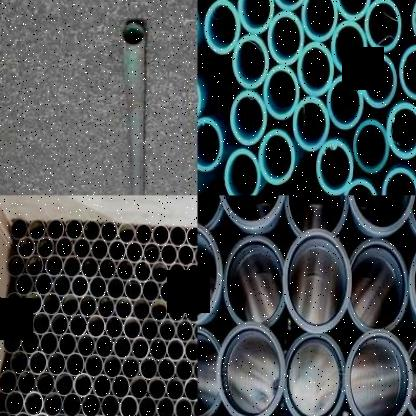pipe: (283, 228, 352, 334), (216, 321, 286, 416), (344, 329, 413, 416), (223, 235, 286, 328), (347, 238, 409, 332), (284, 334, 346, 416), (346, 195, 416, 235), (284, 196, 350, 236), (198, 219, 222, 326), (217, 195, 288, 228), (197, 326, 221, 416), (315, 139, 353, 195), (258, 129, 296, 185), (360, 54, 398, 109), (230, 91, 268, 145), (353, 119, 390, 174), (293, 97, 330, 151), (327, 76, 364, 130), (263, 66, 300, 120), (297, 42, 334, 96), (232, 35, 269, 89), (267, 11, 304, 65), (330, 22, 368, 74), (364, 0, 402, 51), (204, 1, 239, 55), (386, 102, 416, 160), (224, 148, 259, 196), (300, 0, 338, 41), (198, 117, 222, 171), (238, 0, 274, 34), (381, 166, 416, 195), (399, 44, 416, 101), (197, 196, 224, 231), (406, 333, 416, 416), (408, 230, 416, 333), (334, 0, 371, 20), (342, 178, 379, 196), (122, 22, 145, 46), (4, 389, 24, 416), (50, 312, 70, 337), (23, 391, 43, 416), (74, 373, 94, 398), (54, 372, 74, 397), (17, 370, 37, 395), (10, 350, 30, 375), (66, 352, 85, 378), (29, 350, 48, 376), (78, 294, 98, 318), (23, 292, 43, 316), (62, 255, 82, 279), (54, 236, 74, 260), (43, 392, 63, 416), (36, 372, 56, 396), (84, 354, 104, 378), (46, 352, 66, 376), (76, 334, 96, 358), (58, 332, 78, 356), (140, 317, 159, 342), (111, 375, 130, 400), (175, 358, 194, 383), (139, 356, 158, 381), (148, 376, 166, 402), (44, 255, 64, 278), (81, 393, 101, 416), (62, 393, 82, 416), (123, 316, 142, 340), (105, 316, 124, 340), (87, 314, 106, 338), (69, 314, 88, 338), (32, 312, 51, 336), (13, 311, 32, 335), (132, 298, 151, 322), (96, 296, 115, 320), (61, 294, 80, 318), (42, 292, 61, 316), (53, 274, 72, 298), (17, 236, 36, 260), (93, 374, 112, 398), (157, 358, 176, 382), (103, 355, 122, 379), (131, 337, 150, 361), (95, 335, 114, 359), (40, 332, 59, 356), (21, 331, 40, 355), (3, 330, 22, 354), (166, 377, 184, 402), (114, 335, 132, 360), (70, 276, 90, 298), (100, 394, 120, 416), (4, 292, 23, 315), (34, 273, 53, 296), (65, 219, 84, 242), (46, 219, 65, 242), (176, 320, 194, 344), (158, 318, 176, 342), (168, 300, 186, 324), (150, 299, 168, 323), (115, 297, 133, 321), (142, 280, 160, 304), (107, 277, 125, 301), (134, 260, 152, 284), (91, 238, 109, 262), (36, 236, 54, 260), (130, 376, 148, 400), (122, 356, 140, 380), (167, 338, 185, 362), (149, 338, 167, 362), (0, 370, 17, 395), (15, 274, 34, 296), (7, 256, 26, 278), (25, 256, 44, 278), (159, 280, 177, 303), (168, 262, 186, 285), (151, 261, 169, 284), (116, 259, 134, 282), (81, 257, 99, 280), (177, 244, 195, 267), (160, 243, 178, 266), (126, 240, 144, 263), (73, 237, 91, 260), (135, 223, 153, 246), (83, 219, 101, 242), (10, 218, 28, 241), (125, 278, 142, 302), (270, 0, 307, 11), (88, 276, 106, 298), (108, 240, 126, 262), (100, 221, 118, 243), (99, 258, 116, 281), (144, 242, 161, 265), (152, 224, 169, 247), (157, 396, 176, 416), (120, 395, 138, 416), (177, 282, 194, 304), (118, 222, 135, 244), (29, 219, 46, 241), (170, 225, 186, 248), (174, 397, 193, 416), (138, 396, 156, 416), (408, 195, 416, 239), (183, 377, 197, 402), (184, 338, 197, 362), (185, 300, 197, 324), (185, 262, 197, 286), (186, 226, 197, 248), (192, 358, 198, 382), (192, 397, 198, 416), (194, 320, 198, 344), (194, 282, 198, 304), (11, 412, 31, 416), (31, 412, 50, 416), (0, 410, 12, 416), (70, 413, 90, 416), (51, 413, 70, 416)
